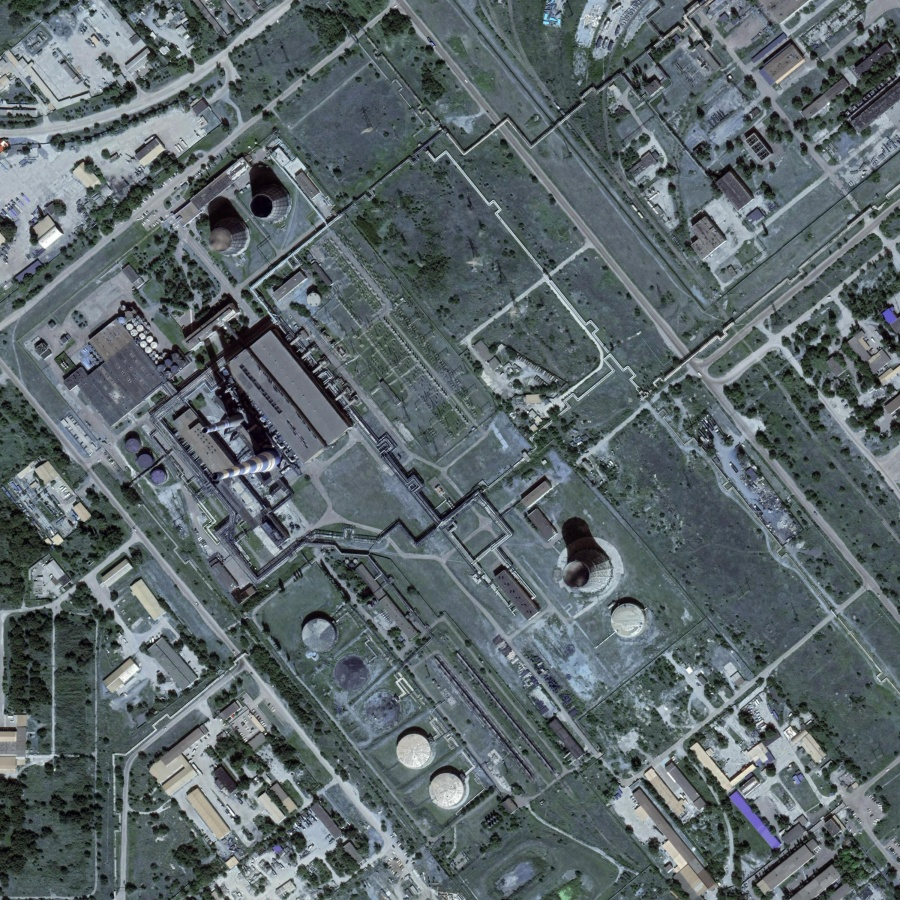PowerPlant: (179, 169, 654, 820)
